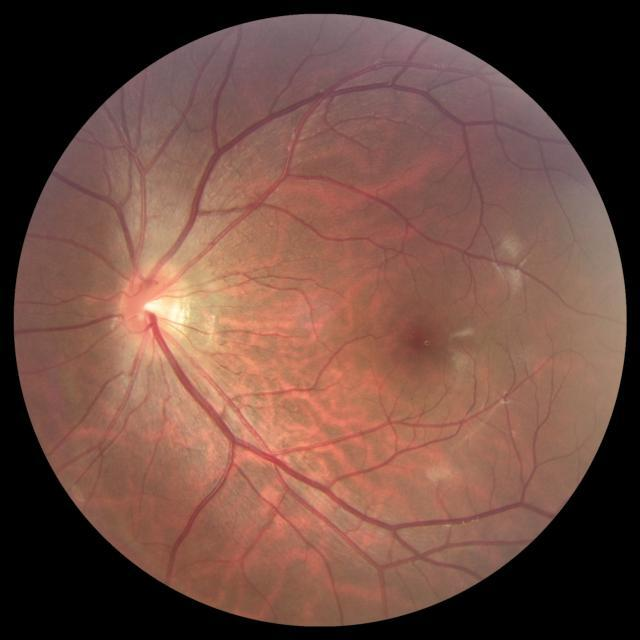OC: (142, 293, 172, 325)
OD: (118, 259, 190, 356)
